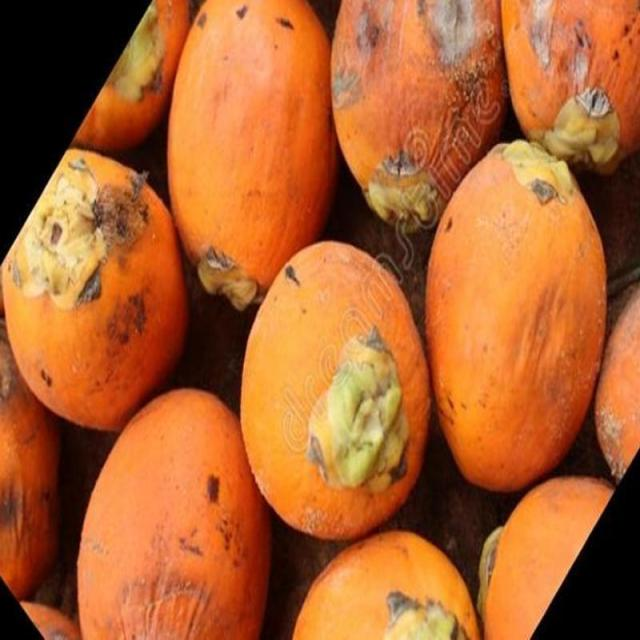good: (422, 94, 618, 497), (238, 240, 434, 545), (166, 0, 342, 309), (0, 152, 190, 433), (75, 387, 273, 639), (330, 0, 511, 251)
